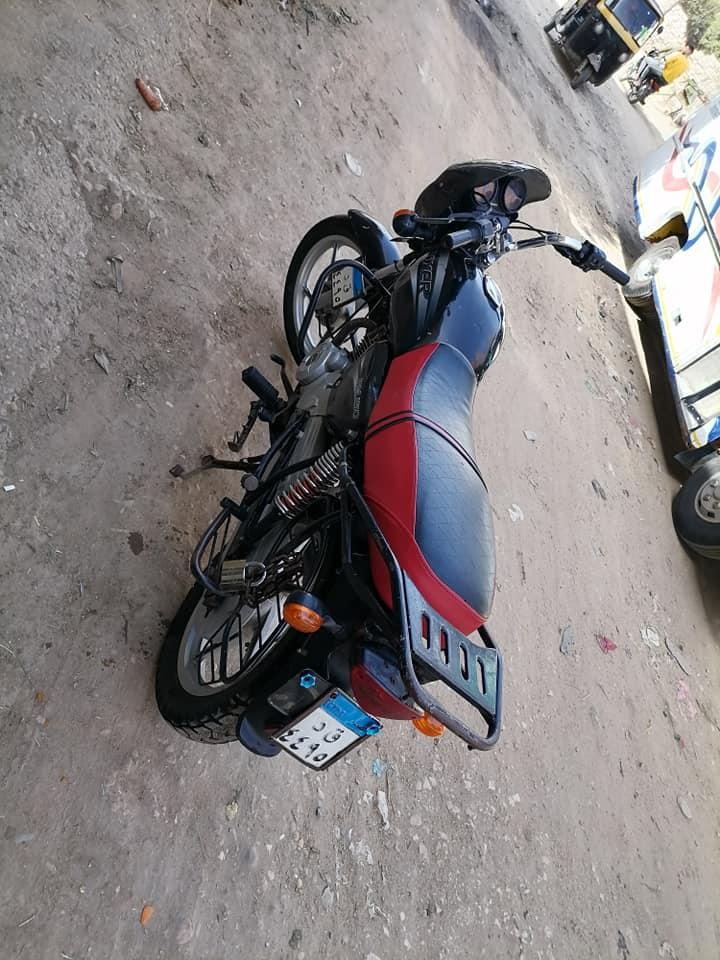License Plate: (270, 689, 383, 779)
